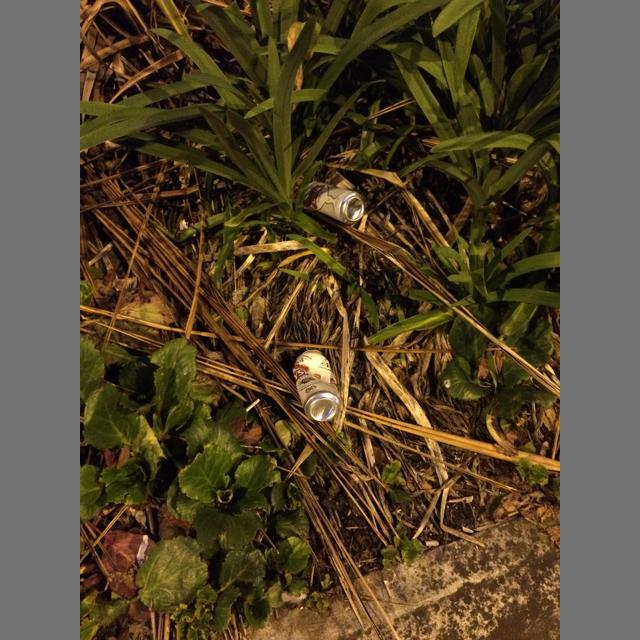litter: (293, 350, 341, 422), (303, 181, 365, 224)
